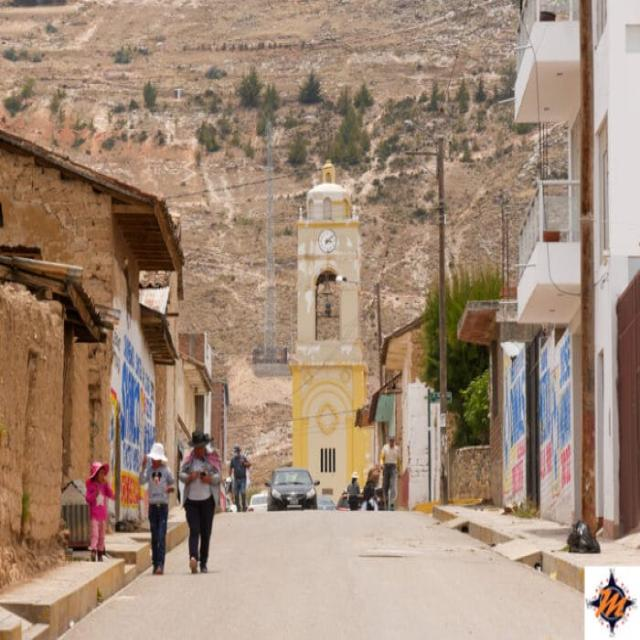CAMPANARIO: (258, 217, 376, 376)
CUPULA: (268, 167, 375, 230)
SIMETRIA COLONIAL: (259, 148, 393, 536)
TORRES: (284, 161, 384, 515)
colonial-architecture-: (245, 137, 399, 542)
